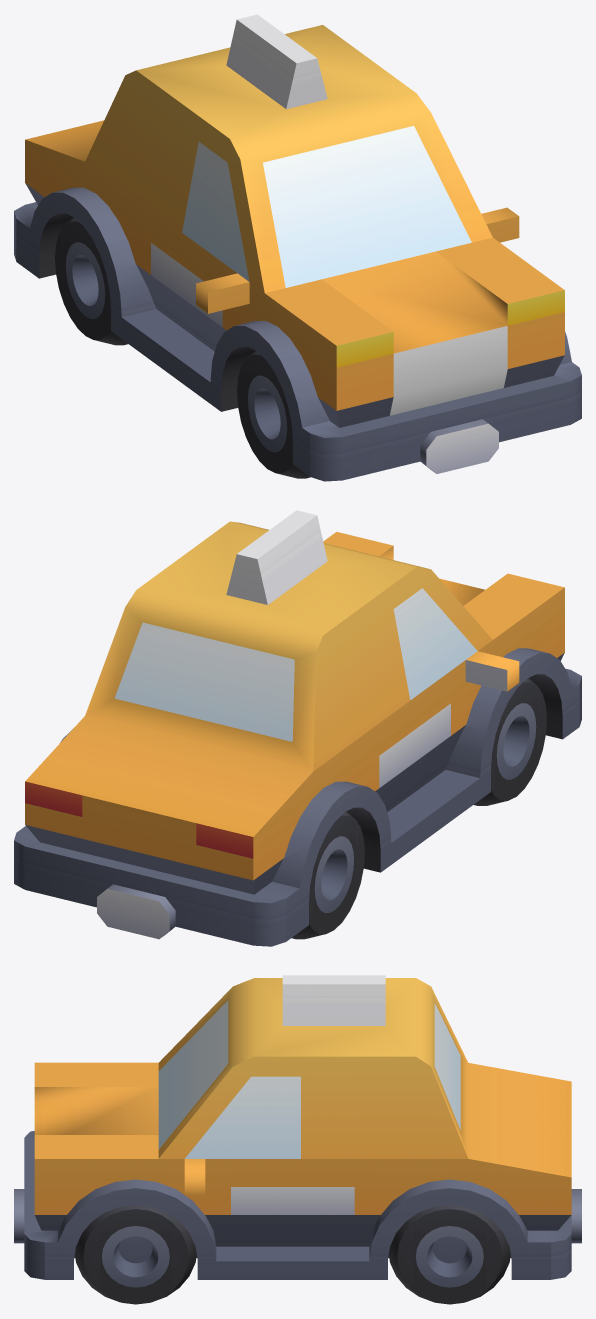
File: taxi-transformed.glb
3 views of the same model, one above another, from view 1: azimuth 30°, elevation 25°; view 2: azimuth 150°, elevation 25°; view 3: azimuth 270°, elevation 25° (orthographic). The views are drawn at different scales.
Visible parts, largest first — view 1: wheel-front-right; view 2: wheel-front-right; view 3: wheel-front-right.
Part boxes in pixels (x1=…): wheel-front-right: x1=14, y1=14, x2=581, y2=481; wheel-front-right: x1=14, y1=510, x2=581, y2=946; wheel-front-right: x1=14, y1=975, x2=581, y2=1304.
Bounding box in the file's own units: 1.5 × 1.5 × 2.75.
Materials: 1 (1 with a texture image).
